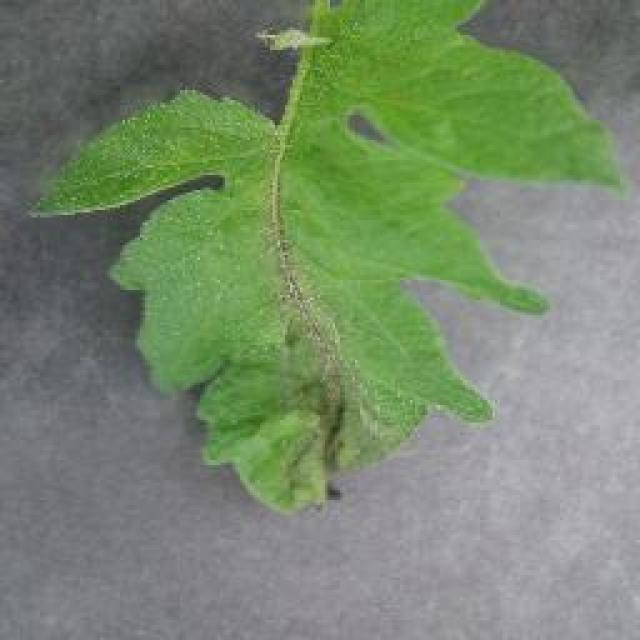Tomato_Late_Blight: (204, 332, 408, 486)
